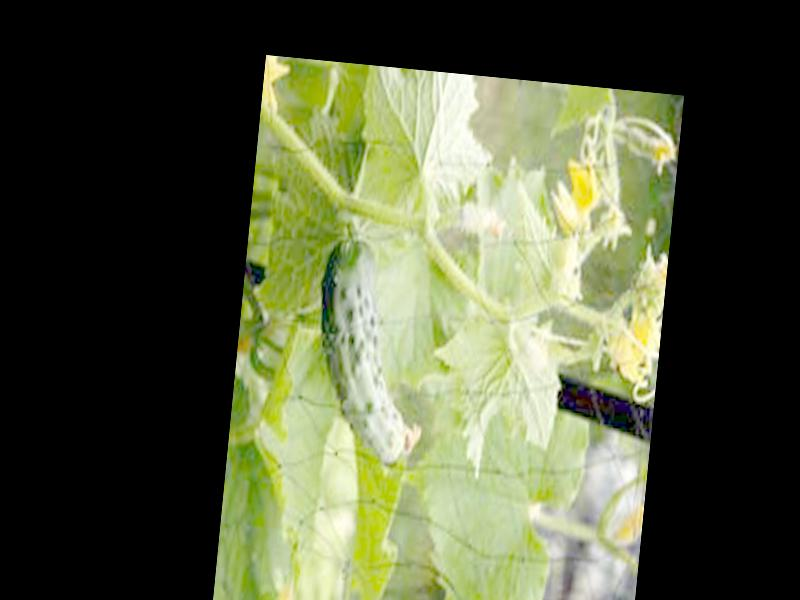Cucumber: (306, 232, 440, 468)
